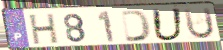1: (97, 10, 116, 45)
8: (63, 13, 88, 44)
D: (120, 9, 154, 43)
H: (28, 12, 60, 46)
U: (150, 7, 186, 43), (182, 6, 217, 41)
